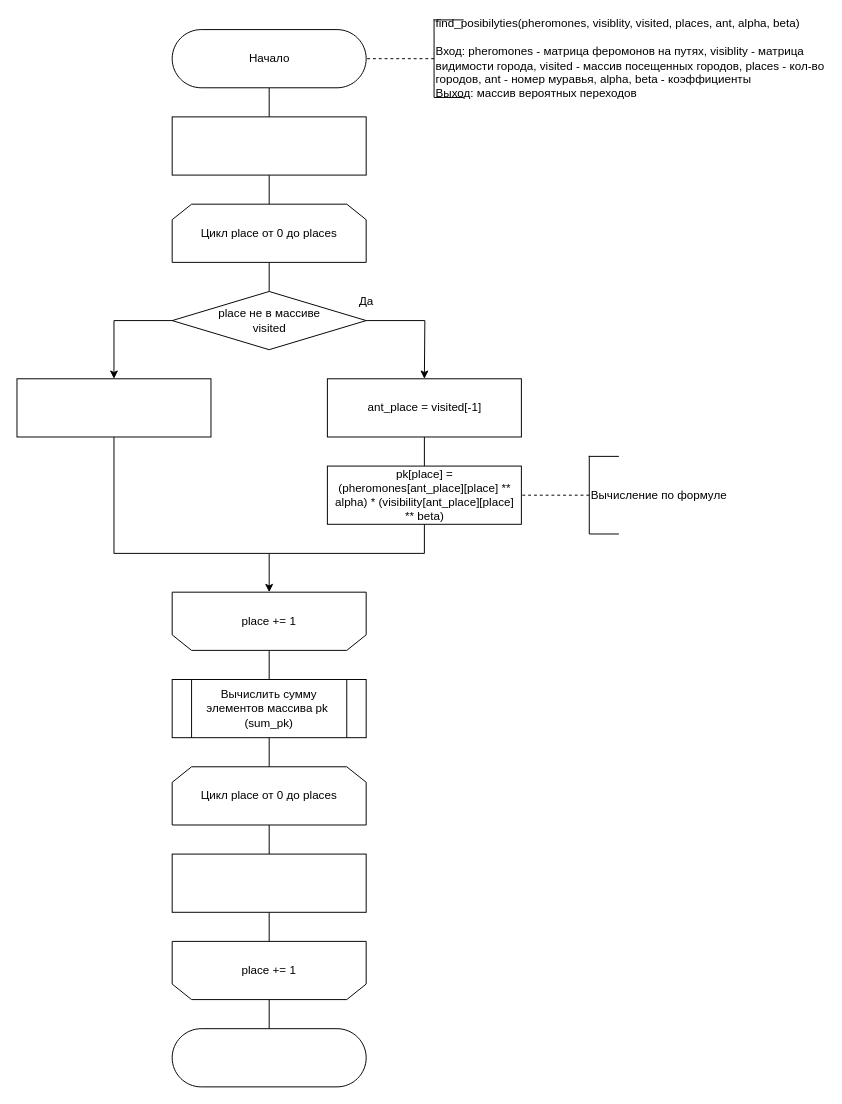
This 842x1104 diagram has some shape labels left out. Here are the shapes that lost their labels. From the top down, the centre of each, then its label:
[268,145]: Инициализация массива вероятных переходов (pk) по кол-ву городов
[113,407]: pk[place] = 0
[268,882]: pk[place] /= sum_pk
[268,1057]: Конец
